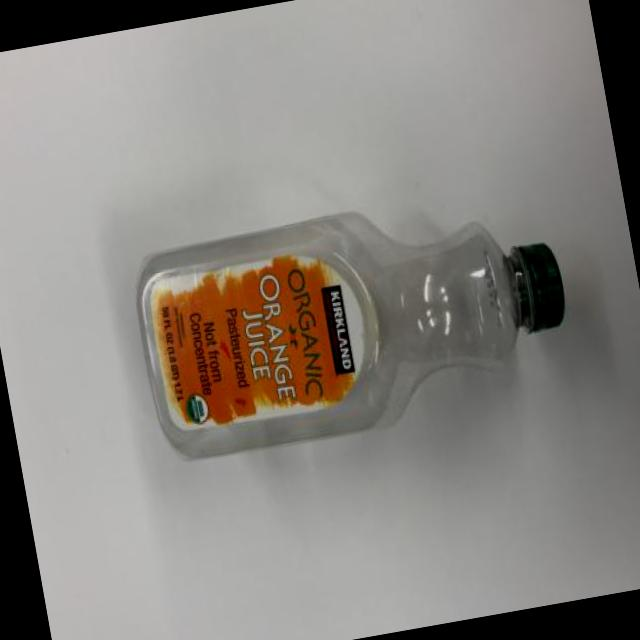Recycle: (123, 172, 584, 473)
